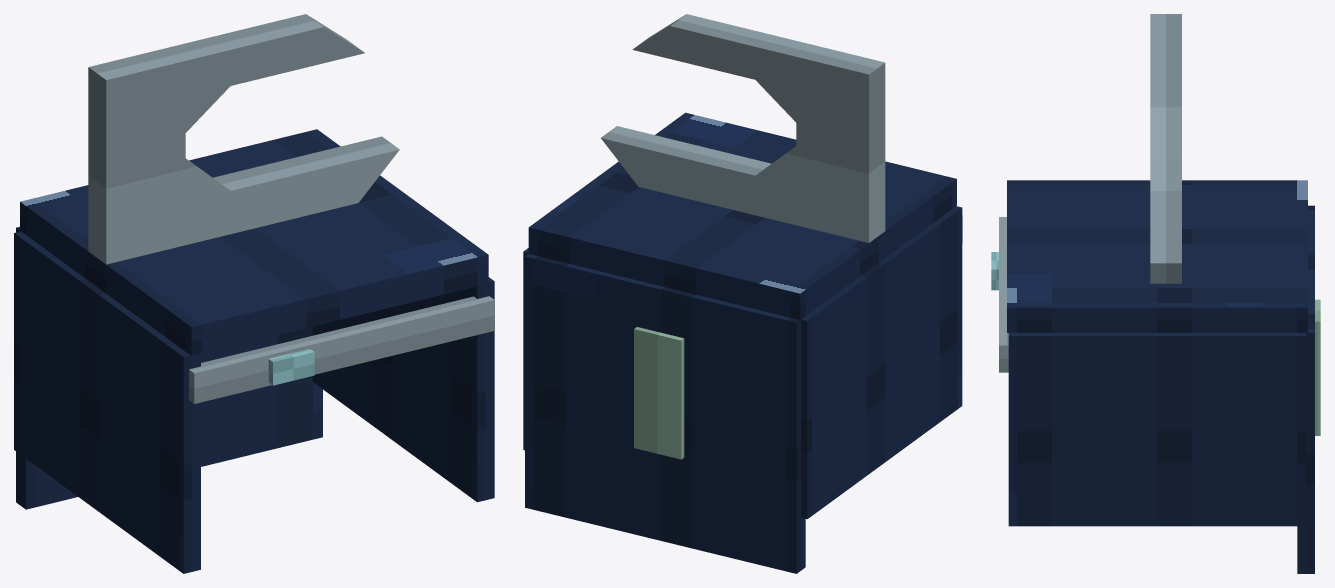
File: jindan_taiyin_helmet.obj
3 renders of one model, left to right at view 1: azimuth 30°, elevation 25°; view 2: azimuth 150°, elevation 25°; view 3: azimuth 270°, elevation 25°, orthographic. The views are drawn at different scales.
Visible parts, largest first — view 1: cap_top, cap_side_-1, square_crescent_crown, cap_side_1, cap_brow, cap_back, moon_brow_jade; view 2: cap_back, cap_top, square_crescent_crown, cap_side_-1, moon_cap_rear; view 3: cap_side_1, cap_top, square_crescent_crown, cap_back, cap_brow, moon_cap_rear.
Boxes of the visible parts, <box> form: cap_top: <box>20,129,488,355</box>; cap_side_-1: <box>14,231,200,573</box>; square_crescent_crown: <box>88,14,399,264</box>; cap_side_1: <box>312,277,494,502</box>; cap_brow: <box>189,296,494,403</box>; cap_back: <box>16,227,322,509</box>; moon_brow_jade: <box>268,349,314,385</box>; cap_back: <box>525,254,805,573</box>; cap_top: <box>528,112,956,319</box>; square_crescent_crown: <box>601,14,885,242</box>; cap_side_-1: <box>801,206,962,519</box>; moon_cap_rear: <box>634,327,684,459</box>; cap_side_1: <box>1008,333,1305,526</box>; cap_top: <box>1007,180,1307,332</box>; square_crescent_crown: <box>1150,14,1181,283</box>; cap_back: <box>1297,205,1314,573</box>; cap_brow: <box>999,217,1008,372</box>; moon_cap_rear: <box>1315,299,1320,435</box>.
Size of the model in its own units: 0.5625 by 0.85 by 0.5888.
